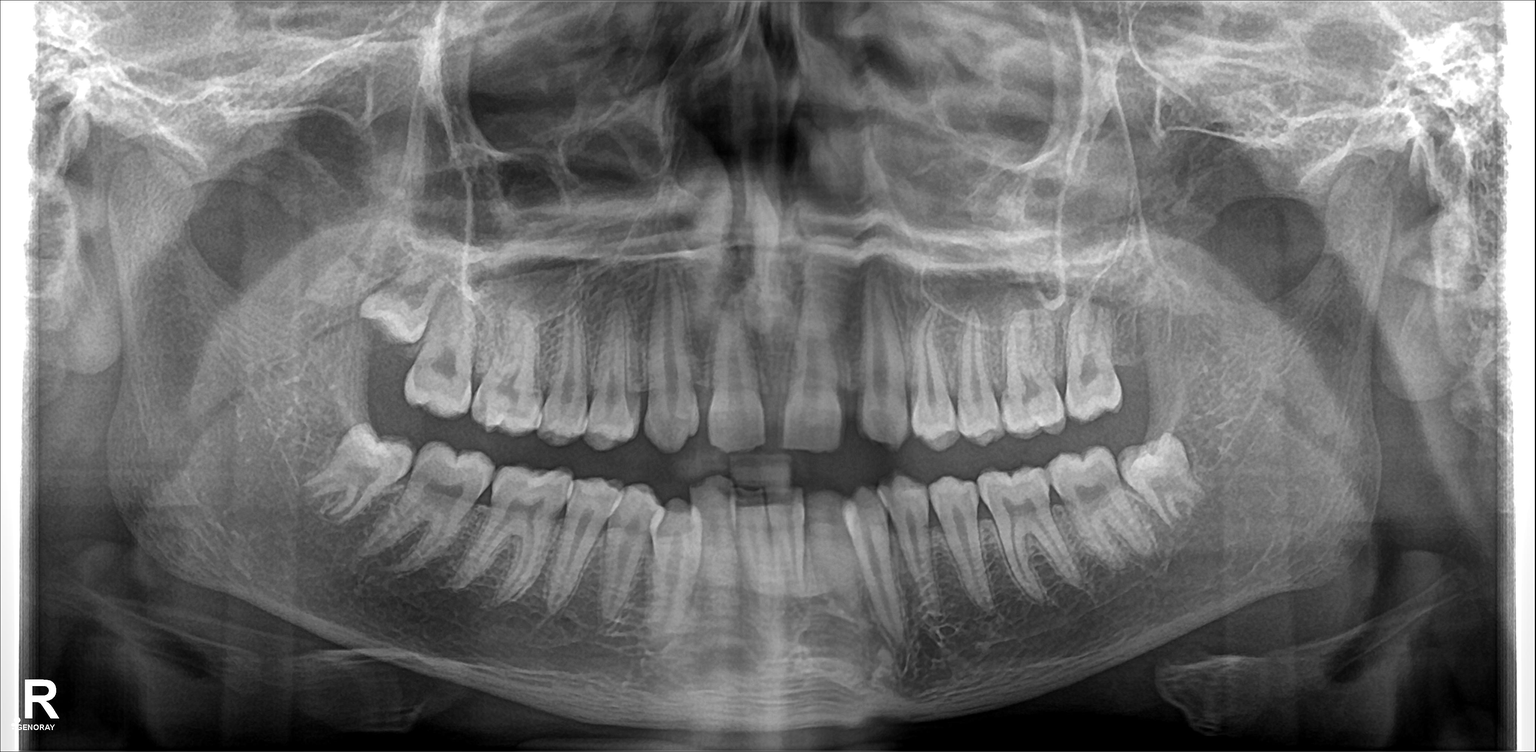Impacted Third Molar: (296, 411, 410, 508), (1134, 428, 1211, 524), (350, 262, 431, 344)
Missing Tooth: (1117, 307, 1158, 396)
